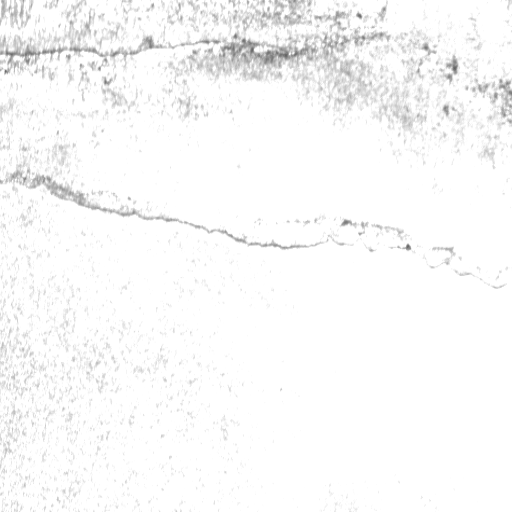hengxiangliewen: (4, 172, 506, 289), (3, 36, 332, 58)
